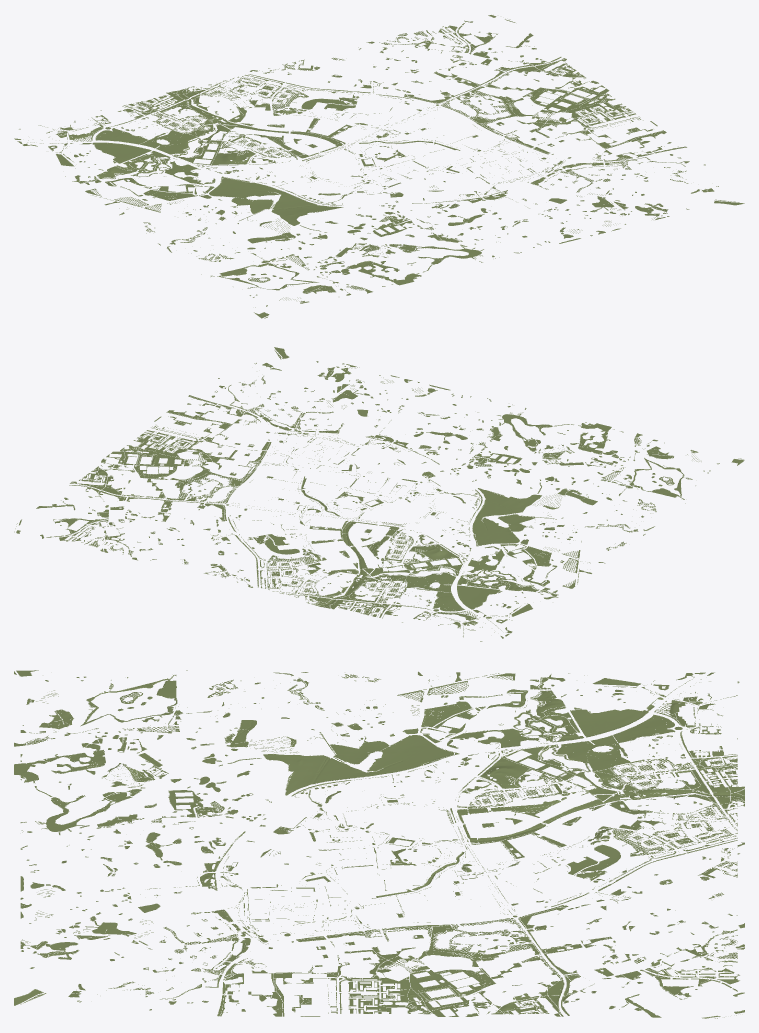
Rendered from vidingsjo_markvegetation.glb.
3 renders of one model, top to bottom at view 1: azimuth 30°, elevation 25°; view 2: azimuth 150°, elevation 25°; view 3: azimuth 270°, elevation 25°, orthographic. The views are drawn at different scales.
Parts seen in each view (by area): view 1: Markvegetation_2_2, Markvegetation_3_6, Markvegetation_3_2, Markvegetation_3_5, Markvegetation_4_0, Markvegetation_12_5, Markvegetation_2_3, Markvegetation_1_1; view 2: Markvegetation_3_6, Markvegetation_3_2, Markvegetation_2_2, Markvegetation_4_0, Markvegetation_12_5, Markvegetation_3_5, Markvegetation_3_3, Markvegetation_2_3, Markvegetation_3_7; view 3: Markvegetation_3_2, Markvegetation_3_6, Markvegetation_2_2, Markvegetation_3_5, Markvegetation_12_5, Markvegetation_4_0, Markvegetation_2_3, Markvegetation_3_7, Markvegetation_3_0, Markvegetation_4_2, Markvegetation_3_3, Markvegetation_1_3 (+25 smaller).
Boxes of the visible parts, x1=… form: Markvegetation_2_2: x1=121, y1=136, x2=177, y2=160; Markvegetation_3_6: x1=242, y1=189, x2=299, y2=211; Markvegetation_3_2: x1=157, y1=128, x2=214, y2=151; Markvegetation_3_5: x1=221, y1=173, x2=276, y2=197; Markvegetation_4_0: x1=153, y1=88, x2=201, y2=110; Markvegetation_12_5: x1=552, y1=95, x2=606, y2=117; Markvegetation_2_3: x1=141, y1=152, x2=198, y2=174; Markvegetation_1_1: x1=62, y1=128, x2=119, y2=151; Markvegetation_3_6: x1=474, y1=506, x2=527, y2=528; Markvegetation_3_2: x1=391, y1=566, x2=446, y2=590; Markvegetation_2_2: x1=427, y1=575, x2=481, y2=598; Markvegetation_4_0: x1=313, y1=591, x2=365, y2=610; Markvegetation_12_5: x1=131, y1=443, x2=184, y2=466; Markvegetation_3_5: x1=453, y1=521, x2=508, y2=544; Markvegetation_3_3: x1=412, y1=550, x2=466, y2=575; Markvegetation_2_3: x1=447, y1=560, x2=499, y2=584; Markvegetation_3_7: x1=494, y1=494, x2=548, y2=512; Markvegetation_3_2: x1=564, y1=750, x2=624, y2=776; Markvegetation_3_6: x1=325, y1=749, x2=384, y2=775; Markvegetation_2_2: x1=564, y1=725, x2=624, y2=750; Markvegetation_3_5: x1=384, y1=749, x2=444, y2=774; Markvegetation_12_5: x1=384, y1=978, x2=444, y2=1004; Markvegetation_4_0: x1=684, y1=776, x2=744, y2=802; Markvegetation_2_3: x1=504, y1=725, x2=564, y2=750; Markvegetation_3_7: x1=264, y1=747, x2=324, y2=775; Markvegetation_3_0: x1=684, y1=749, x2=737, y2=776; Markvegetation_4_2: x1=564, y1=775, x2=624, y2=802; Markvegetation_3_3: x1=504, y1=749, x2=564, y2=775; Markvegetation_1_3: x1=504, y1=699, x2=564, y2=725.
Size of the model in its own units: 3380 by 46.82 by 3050.
